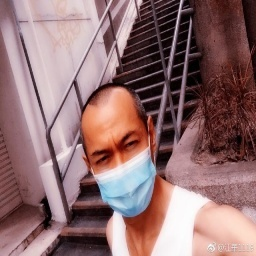correctlyWear: (79, 114, 157, 218)
